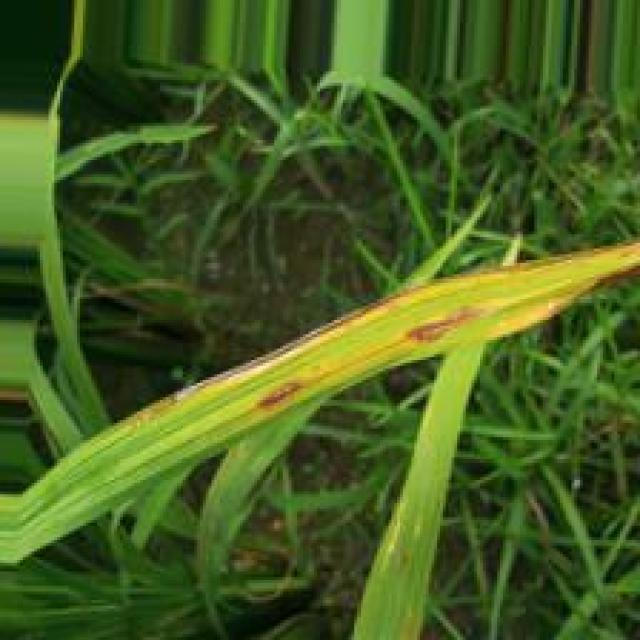Narrow_Brown_Leaf_Spot: (116, 224, 640, 432)
